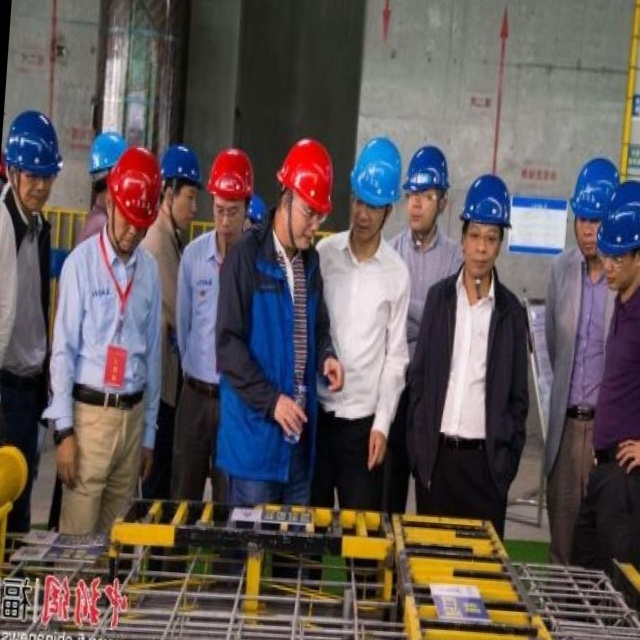Con_Casco: (272, 137, 334, 247), (400, 141, 451, 233)
Sin_Chaleco: (416, 268, 529, 468), (51, 233, 170, 404)
